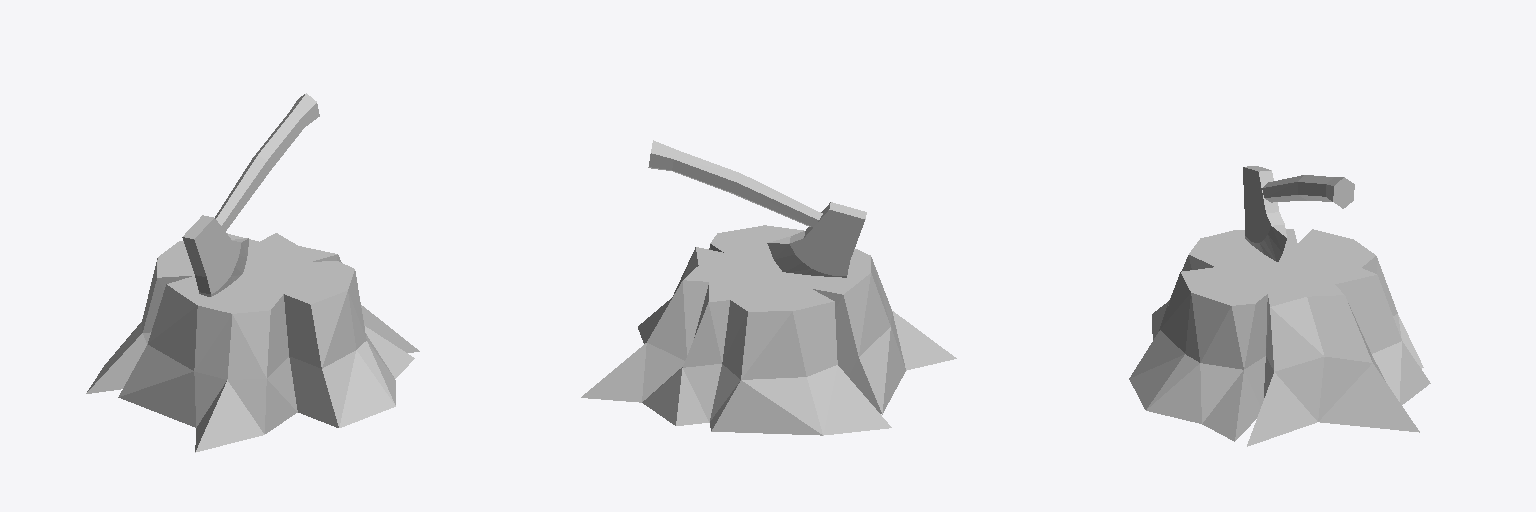
The model's file is tree_stump.obj.
3 views of the same model, side by side, from view 1: azimuth 30°, elevation 25°; view 2: azimuth 150°, elevation 25°; view 3: azimuth 270°, elevation 25° (orthographic).
Parts seen in each view (by area): view 1: Plane, Hatchet_Cylinder.002; view 2: Plane, Hatchet_Cylinder.002; view 3: Plane, Hatchet_Cylinder.002.
Boxes of the visible parts, x1=… form: Plane: x1=86, y1=233, x2=419, y2=452; Hatchet_Cylinder.002: x1=182, y1=93, x2=319, y2=296; Plane: x1=581, y1=225, x2=956, y2=435; Hatchet_Cylinder.002: x1=648, y1=140, x2=866, y2=277; Plane: x1=1129, y1=229, x2=1430, y2=446; Hatchet_Cylinder.002: x1=1243, y1=166, x2=1354, y2=261.
Size of the model in its own units: 1.52 by 1.18 by 1.35.